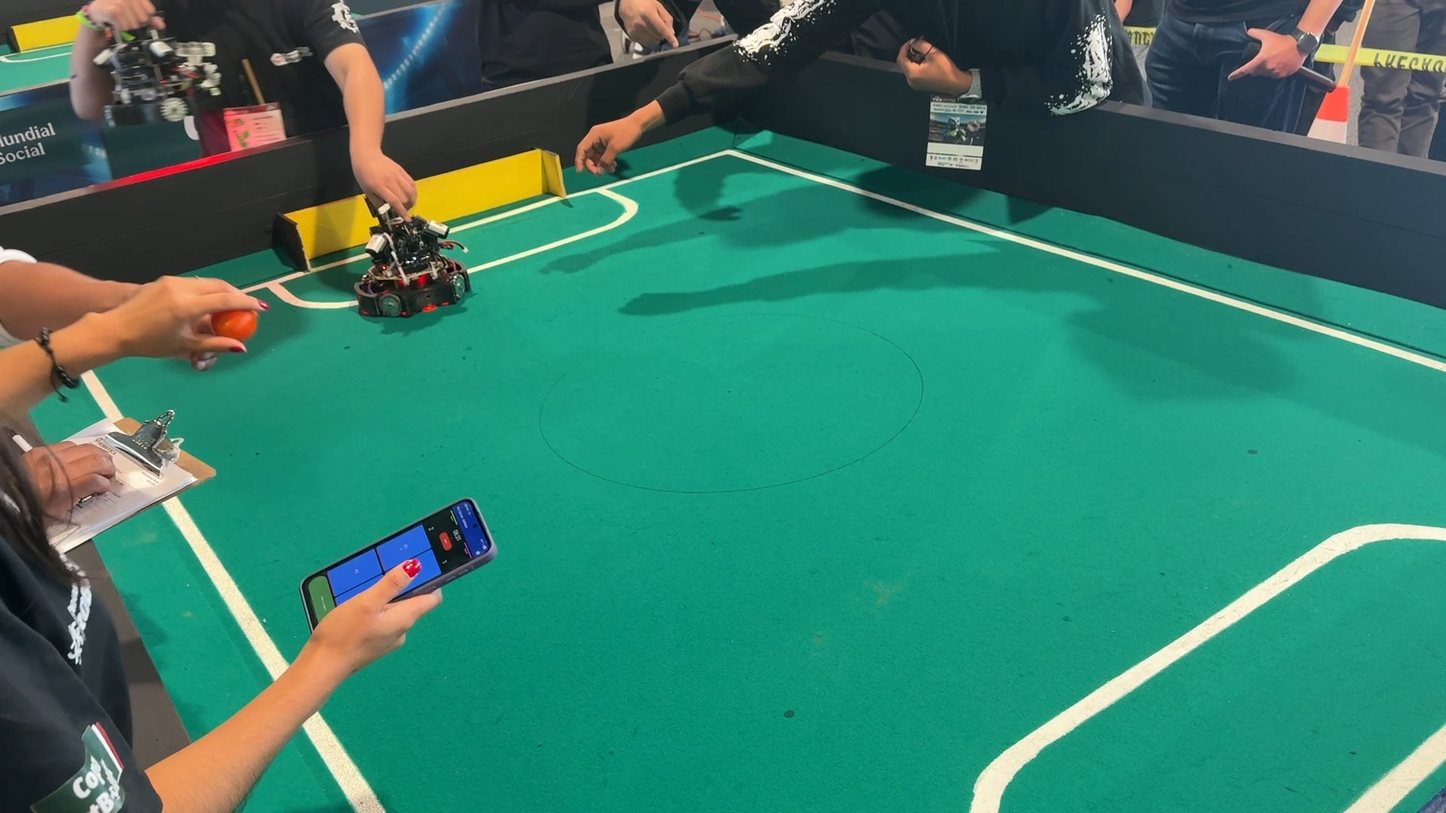Robot: (348, 193, 494, 341), (100, 10, 212, 130)
